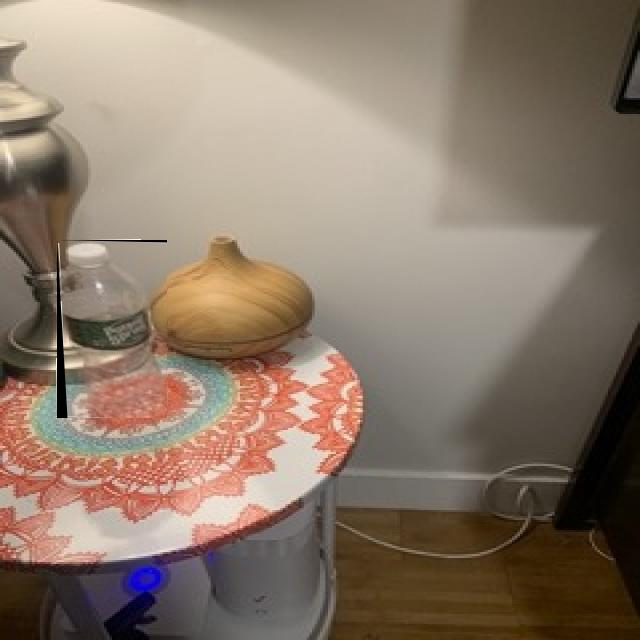water_bottle: (57, 240, 167, 418)
